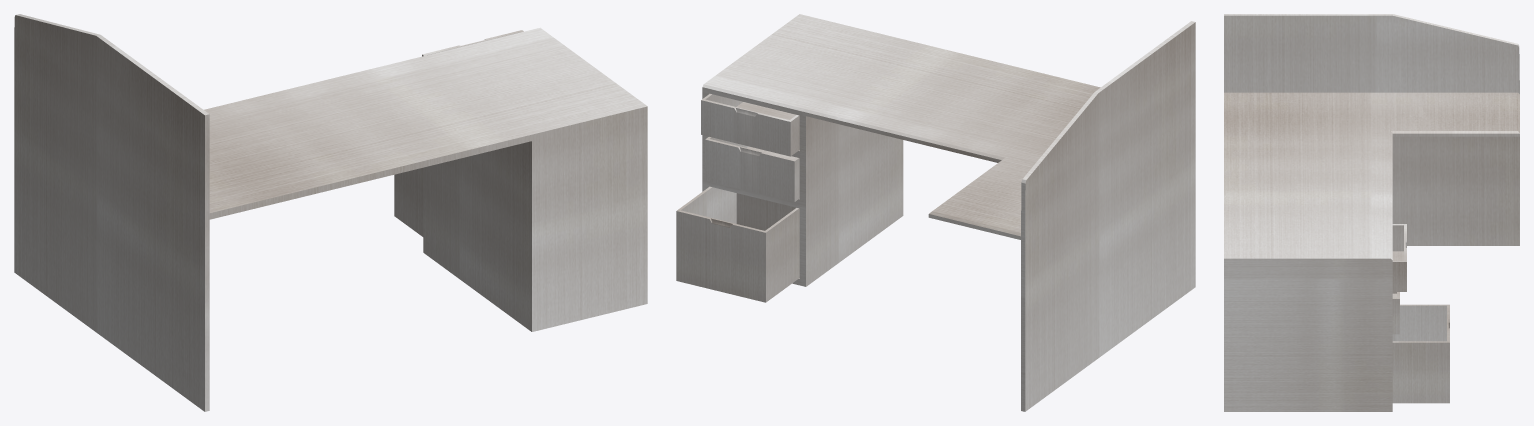
The model's file is table.fbx.
3 views of the same model, side by side, from view 1: azimuth 30°, elevation 25°; view 2: azimuth 150°, elevation 25°; view 3: azimuth 270°, elevation 25° (orthographic). The views are drawn at different scales.
Parts seen in each view (by area): view 1: table, pCube6; view 2: table, pCube6, pCube5, pCube4; view 3: table, pCube6, pCube4, pCube5.
Boxes of the visible parts, x1=… form: table: x1=14, y1=14, x2=647, y2=411; pCube6: x1=394, y1=168, x2=423, y2=236; table: x1=702, y1=14, x2=1195, y2=411; pCube6: x1=676, y1=186, x2=799, y2=302; pCube5: x1=705, y1=137, x2=799, y2=201; pCube4: x1=701, y1=94, x2=799, y2=156; table: x1=1224, y1=14, x2=1519, y2=411; pCube6: x1=1392, y1=304, x2=1449, y2=403; pCube4: x1=1392, y1=224, x2=1406, y2=291; pCube5: x1=1392, y1=292, x2=1399, y2=334.
Bounding box in the file's own units: 4.32 × 2.77 × 3.22.
